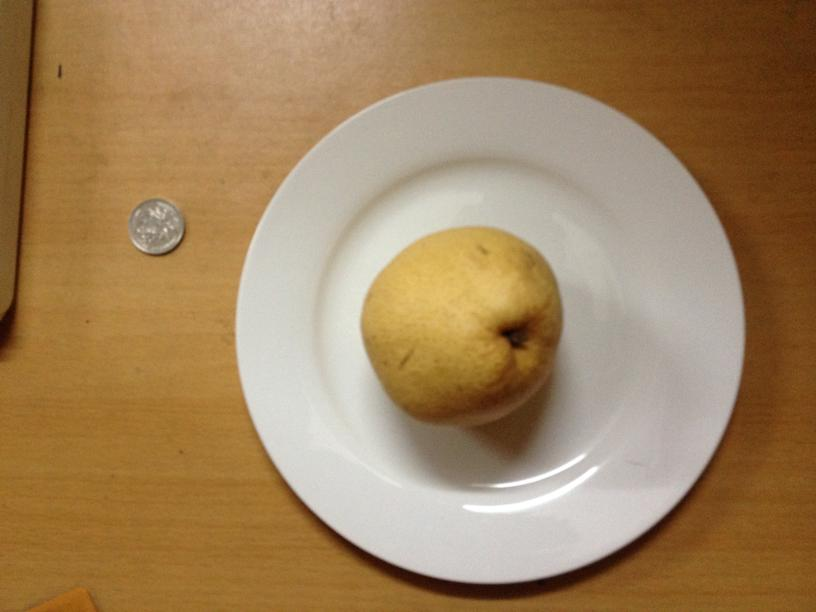coin: (127, 199, 183, 255)
pear: (357, 225, 563, 430)
